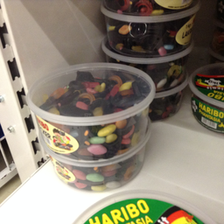candy: (28, 62, 156, 161), (42, 143, 149, 193), (100, 5, 200, 58), (187, 62, 224, 135)
